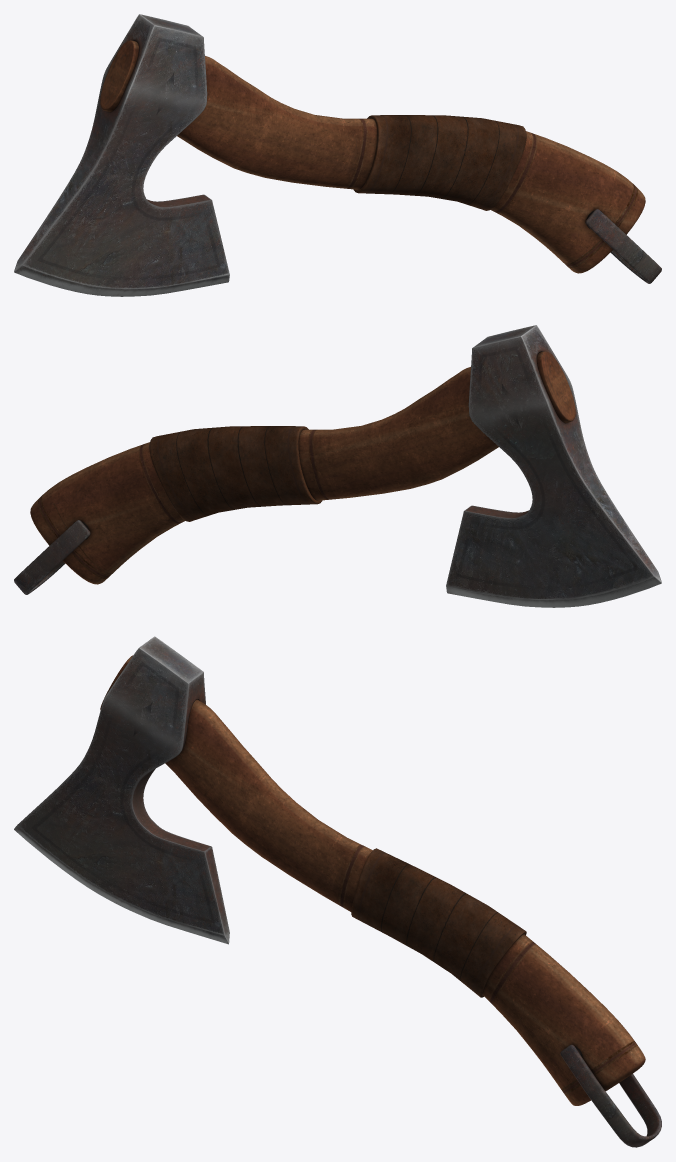
File: axe (1).glb
3 renders of one model, top to bottom at view 1: azimuth 30°, elevation 25°; view 2: azimuth 150°, elevation 25°; view 3: azimuth 330°, elevation 25°, orthographic.
Visible parts, largest first — view 1: Object_2; view 2: Object_2; view 3: Object_2.
Boxes of the visible parts, x1,y1,x2,y2 form: Object_2: (14,14,661,296); Object_2: (14,325,661,607); Object_2: (14,636,661,1147).
Bounding box in the file's own units: 2.16 × 1.23 × 0.167.
1 material, 1 textured.
